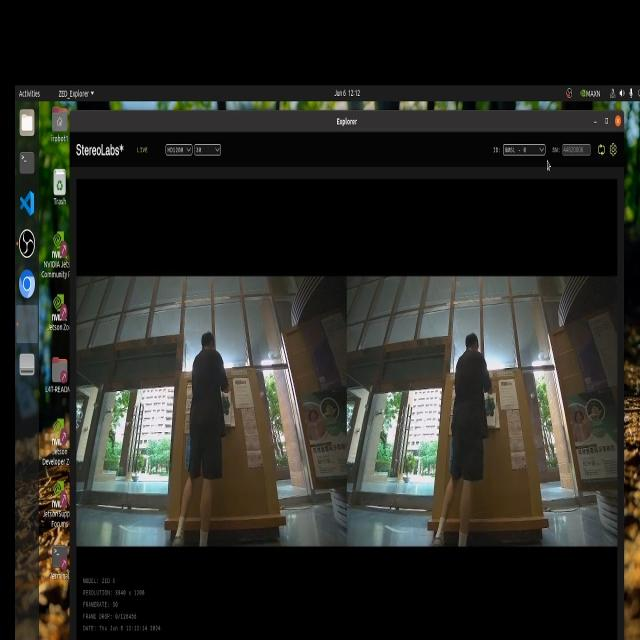green: (482, 385, 498, 432), (219, 386, 232, 418)
